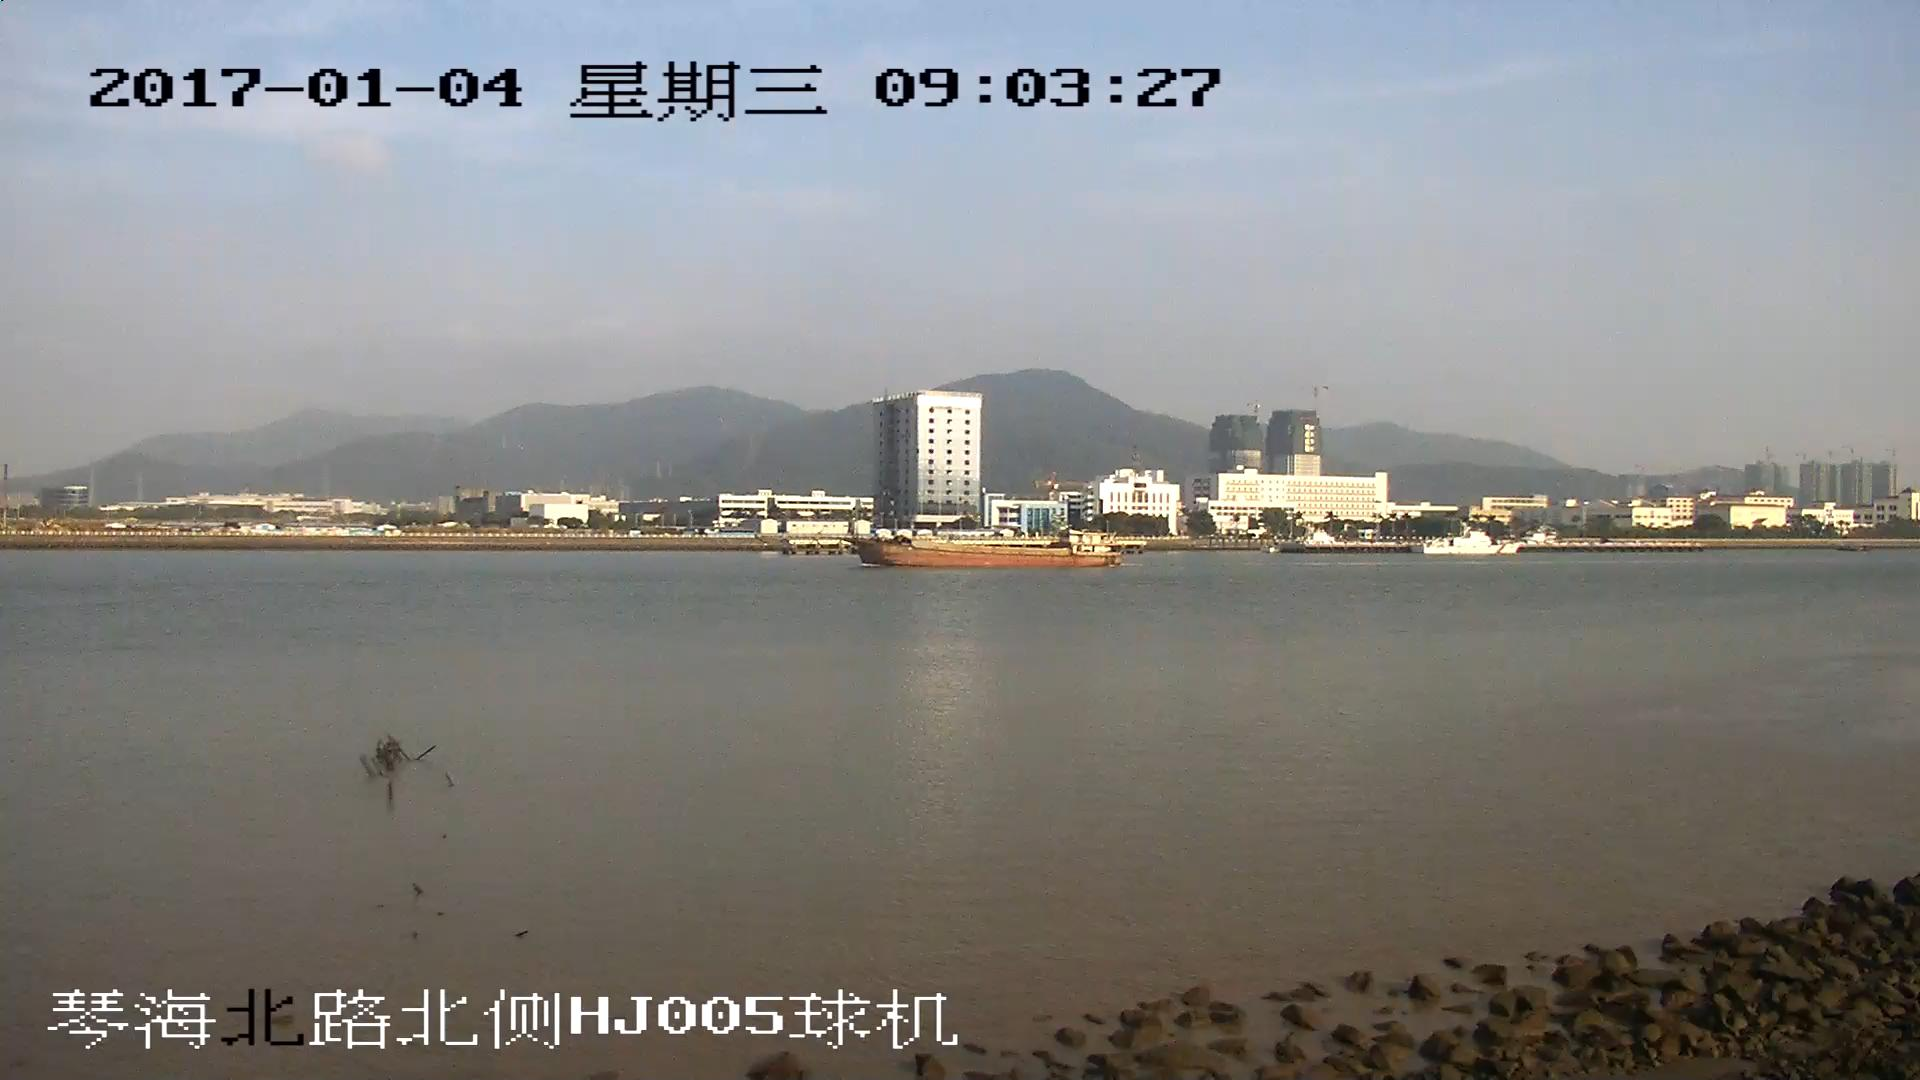bulk cargo carrier: (859, 523, 1121, 570)
